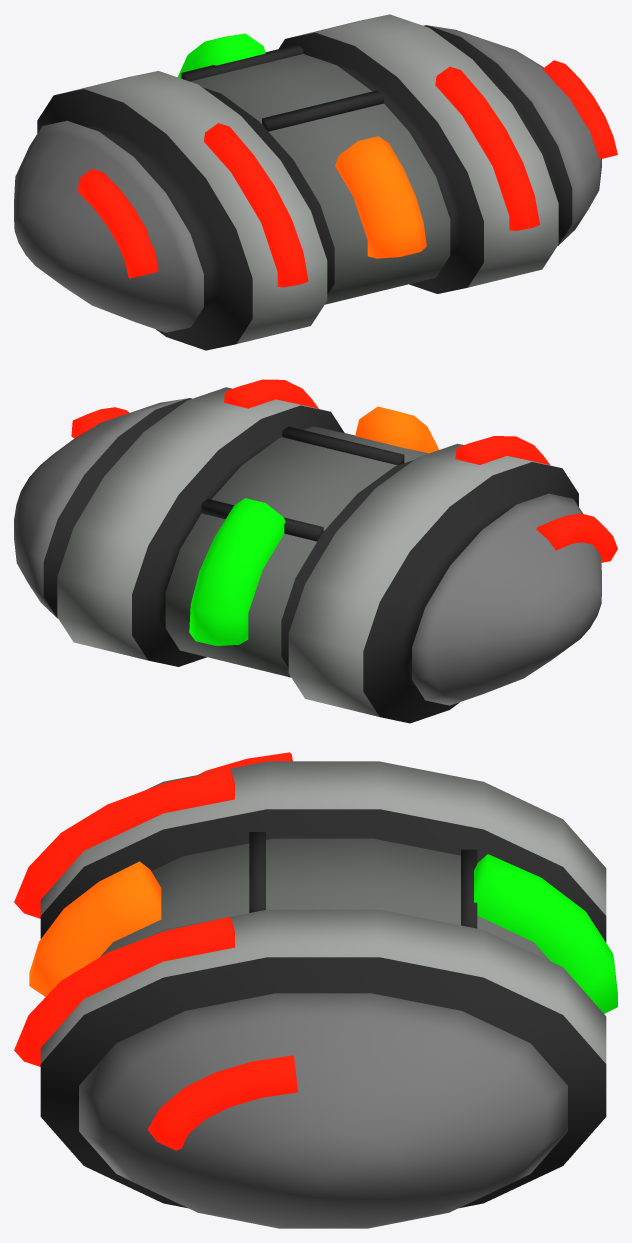
The model's file is tyrian10-203.glb.
3 views of the same model, one above another, from view 1: azimuth 30°, elevation 25°; view 2: azimuth 150°, elevation 25°; view 3: azimuth 270°, elevation 25° (orthographic). The views are drawn at different scales.
Visible parts, largest first — view 1: tyrian10-203, tyrian10-203_lights; view 2: tyrian10-203, tyrian10-203_lights; view 3: tyrian10-203, tyrian10-203_lights.
Boxes of the visible parts, x1,y1,x2,y2 form: tyrian10-203: [14, 14, 601, 350]; tyrian10-203_lights: [78, 33, 617, 287]; tyrian10-203: [14, 387, 601, 723]; tyrian10-203_lights: [71, 379, 617, 645]; tyrian10-203: [40, 761, 606, 1228]; tyrian10-203_lights: [14, 752, 617, 1150].
Bounding box in the file's own units: 1.78 × 0.6678 × 1.29.
